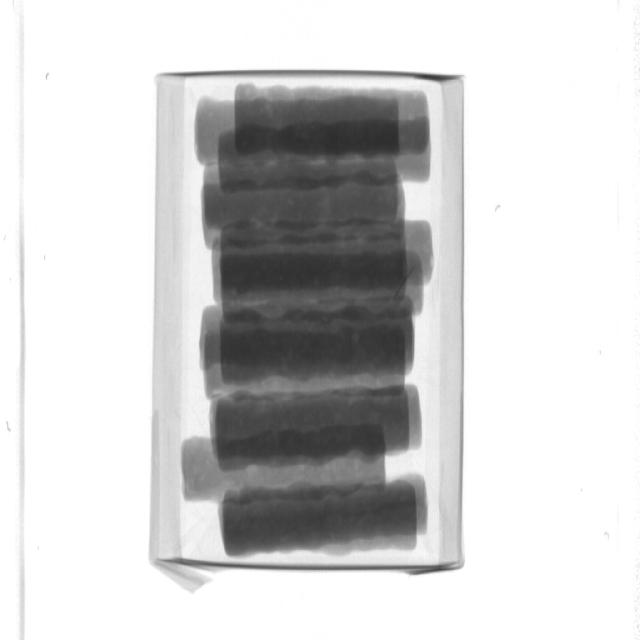ym: (395, 266, 418, 300)
